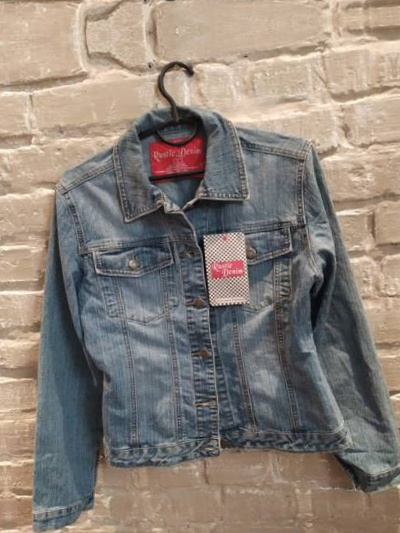Blazer: (15, 92, 400, 526)
